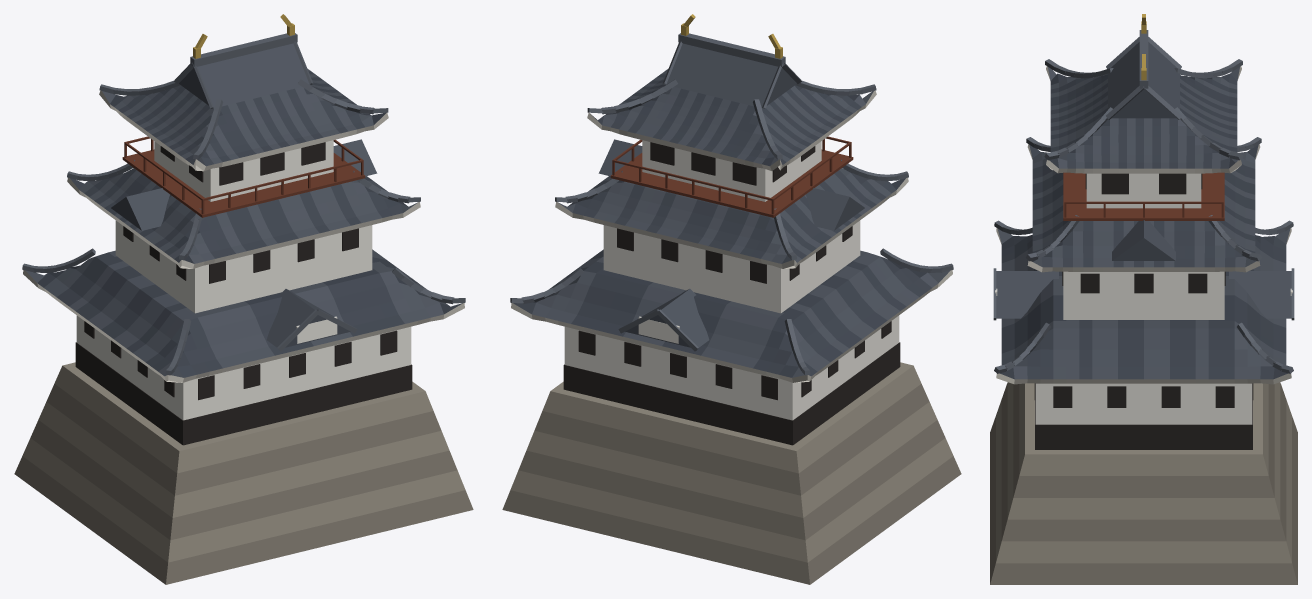
File: castle.glb
3 views of the same model, side by side, from view 1: azimuth 30°, elevation 25°; view 2: azimuth 150°, elevation 25°; view 3: azimuth 270°, elevation 25° (orthographic).
Visible parts, largest first — view 1: onomichi_castle; view 2: onomichi_castle; view 3: onomichi_castle.
Boxes of the visible parts, bbox=[...] form: onomichi_castle: bbox=[14, 14, 473, 584]; onomichi_castle: bbox=[502, 14, 961, 584]; onomichi_castle: bbox=[990, 14, 1297, 584].
Bounding box in the file's own units: 17 × 24.67 × 14.5.
